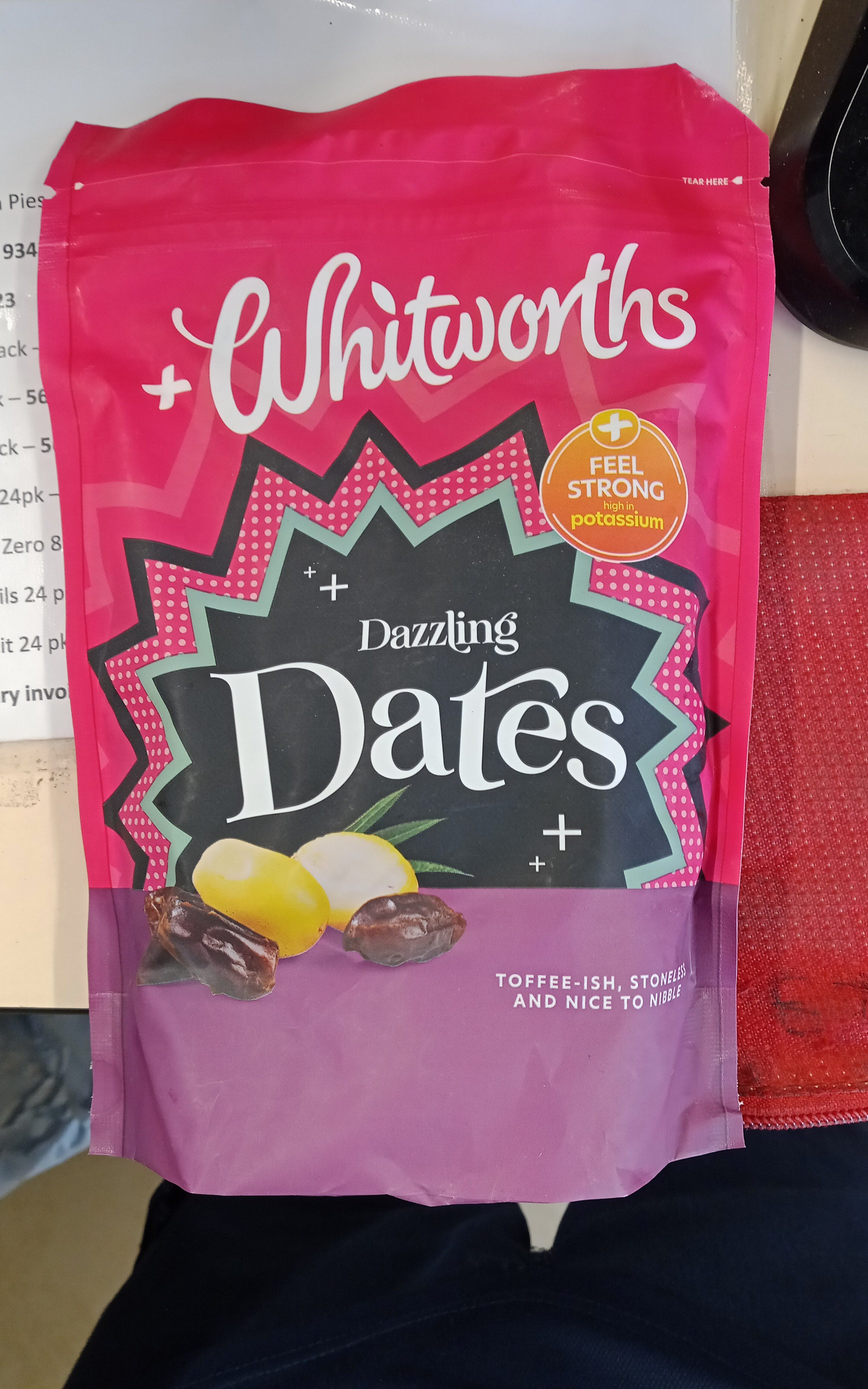Dazzling Dates: (43, 69, 825, 1320)
